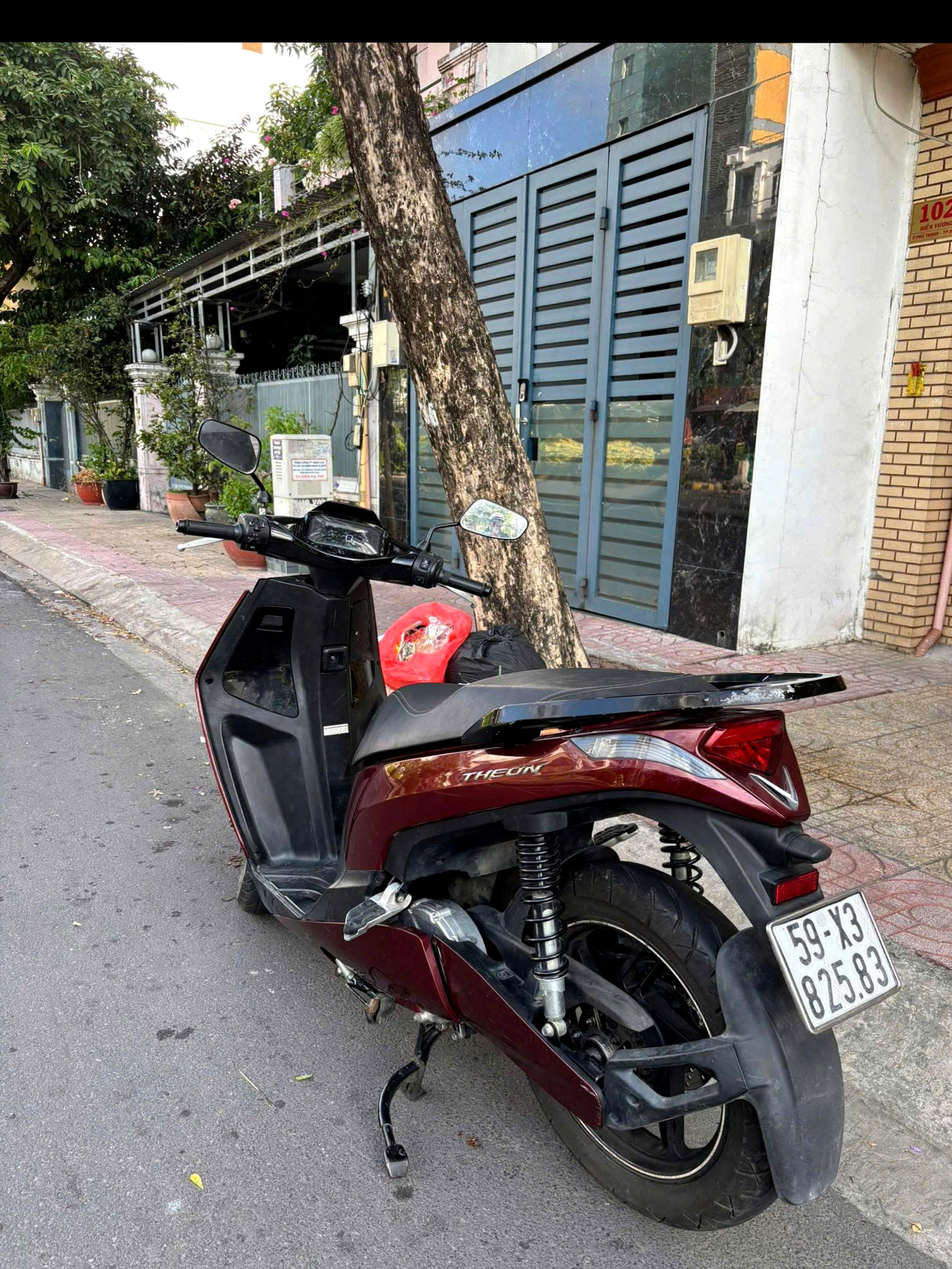Bien-so: (743, 832, 876, 1000)
